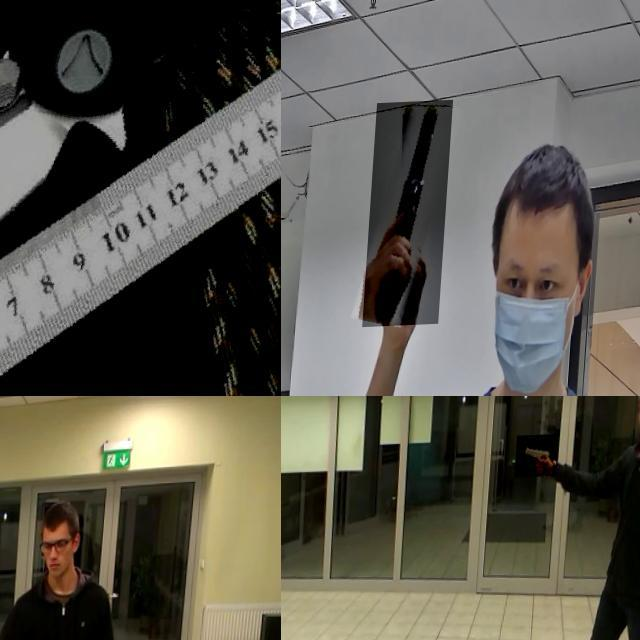-: (0, 0, 281, 396)
gun-knife-thesis - v11 Yolov5 augmented: (368, 103, 456, 330), (519, 438, 563, 481)
